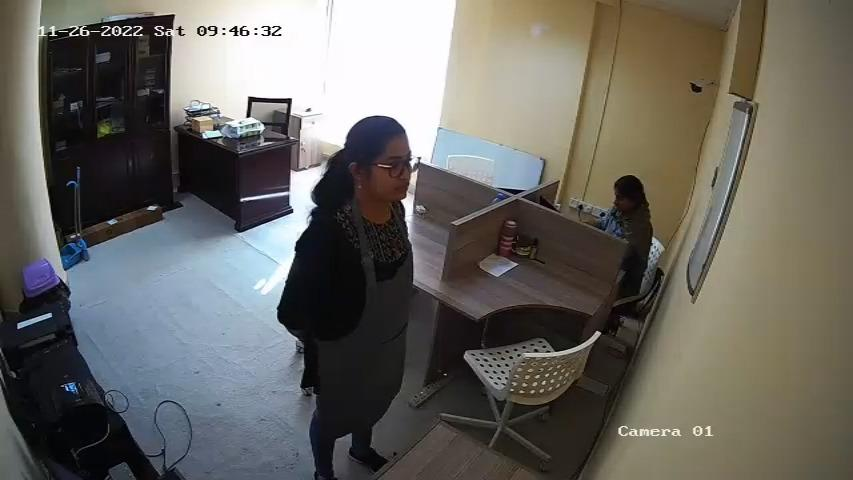apron: (323, 212, 415, 391)
